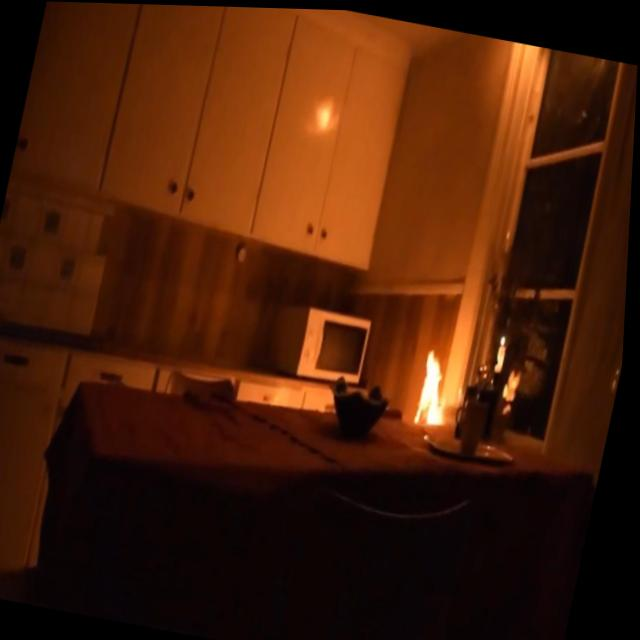fire: (411, 337, 467, 430), (502, 330, 511, 346)
